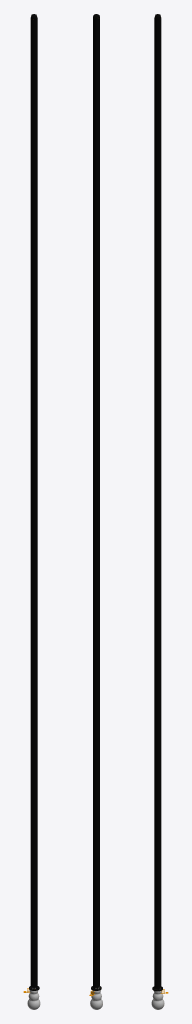
Rendered from snowman.glb.
3 renders of one model, left to right at view 1: azimuth 90°, elevation 25°; view 2: azimuth 150°, elevation 25°; view 3: azimuth 270°, elevation 25°, orthographic.
Parts seen in each view (by area): view 1: Area (1); view 2: Area (1); view 3: Area (1).
Boxes of the visible parts, <box> form: Area (1): <box>23,14,40,1009</box>; Area (1): <box>89,14,102,1009</box>; Area (1): <box>151,14,168,1009</box>.
Size of the model in its own units: 51.01 by 4315 by 66.57.
Materials: 1 (1 with a texture image).
